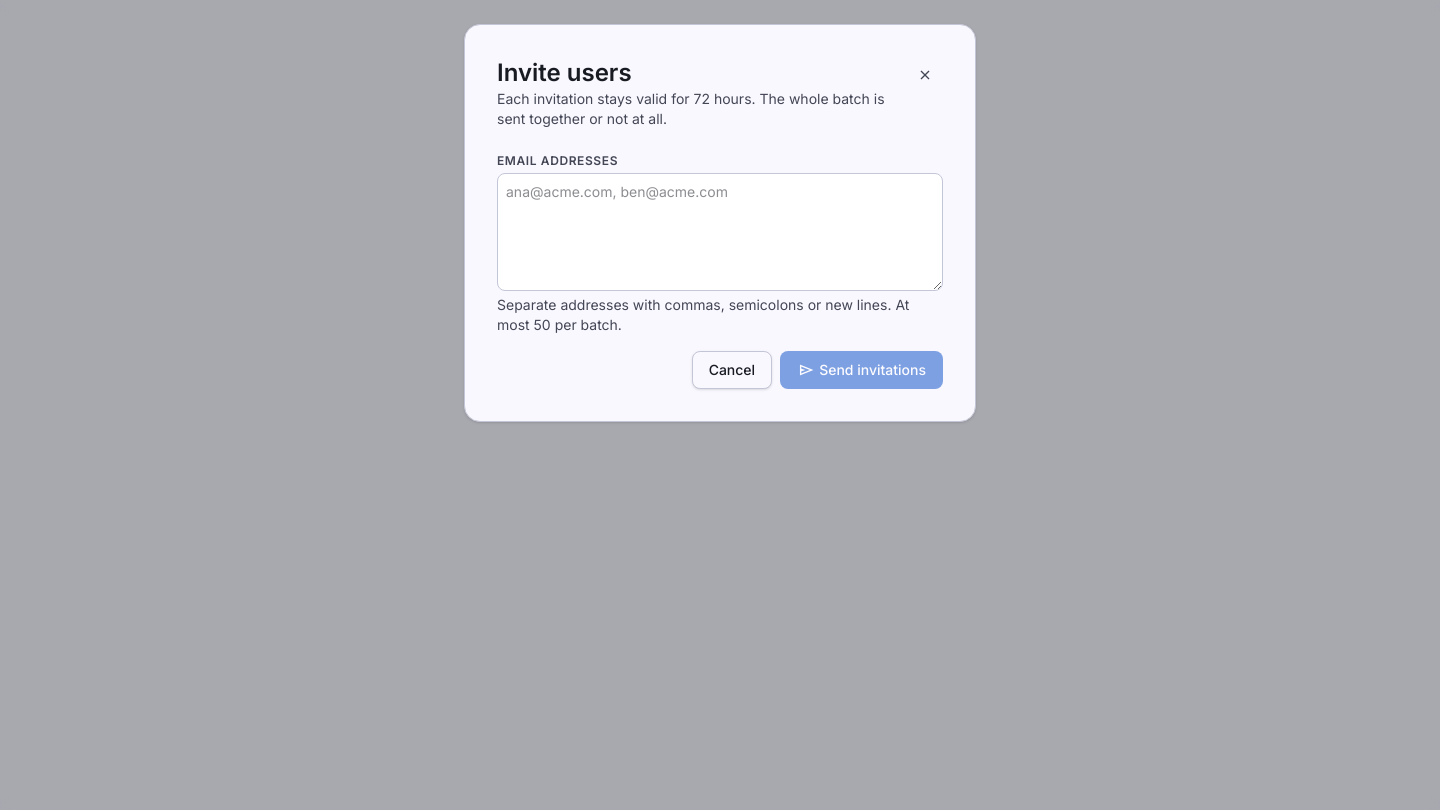
InviteUsersDialog › reports seat usage from the response once the batch is sent
Type "ana@acme.test" into the text box labelled "Email addresses".
click(720, 232); type("ana@acme.test")  # box [497,173,943,291]
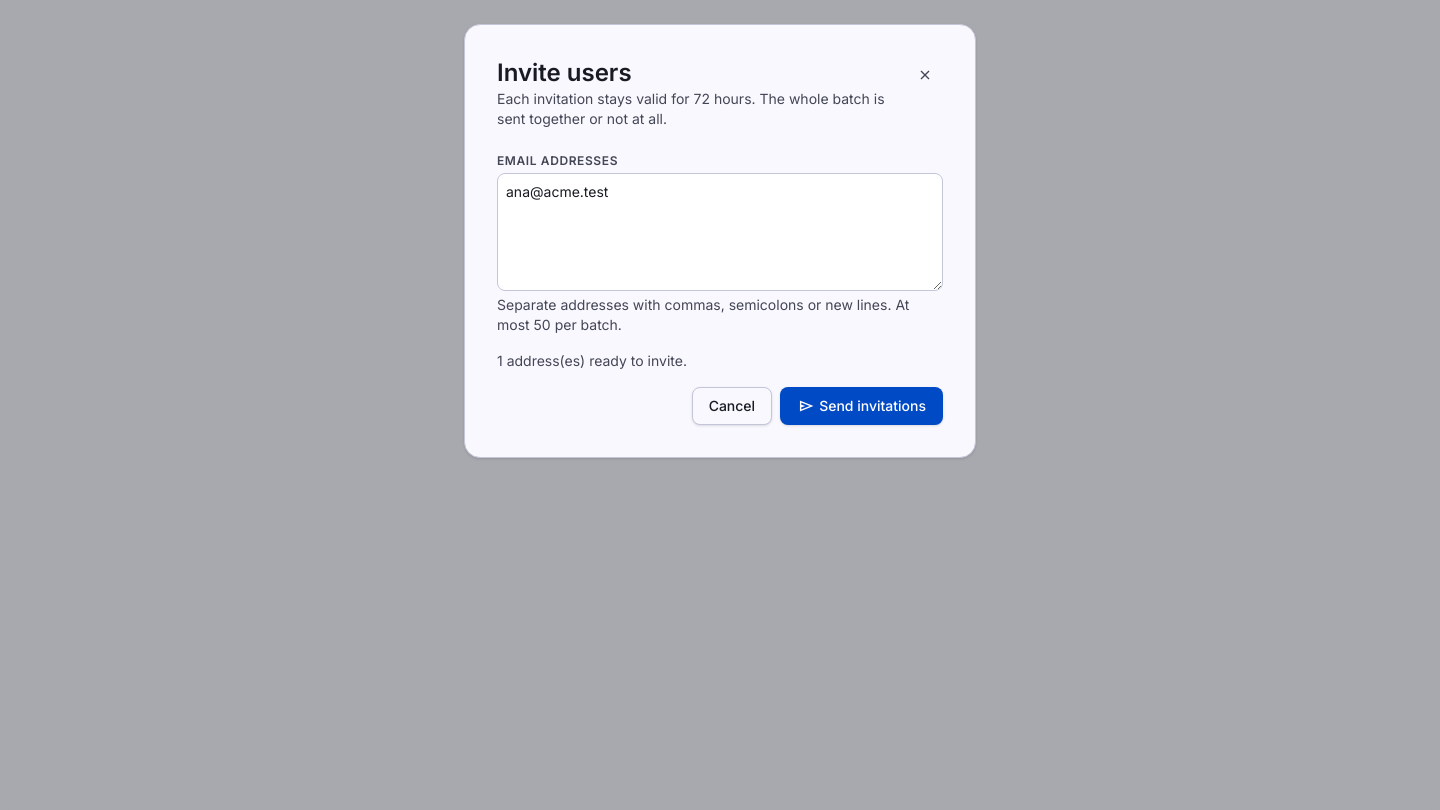
Click the button "Send invitations".
click(862, 406)  # box [780,387,943,425]
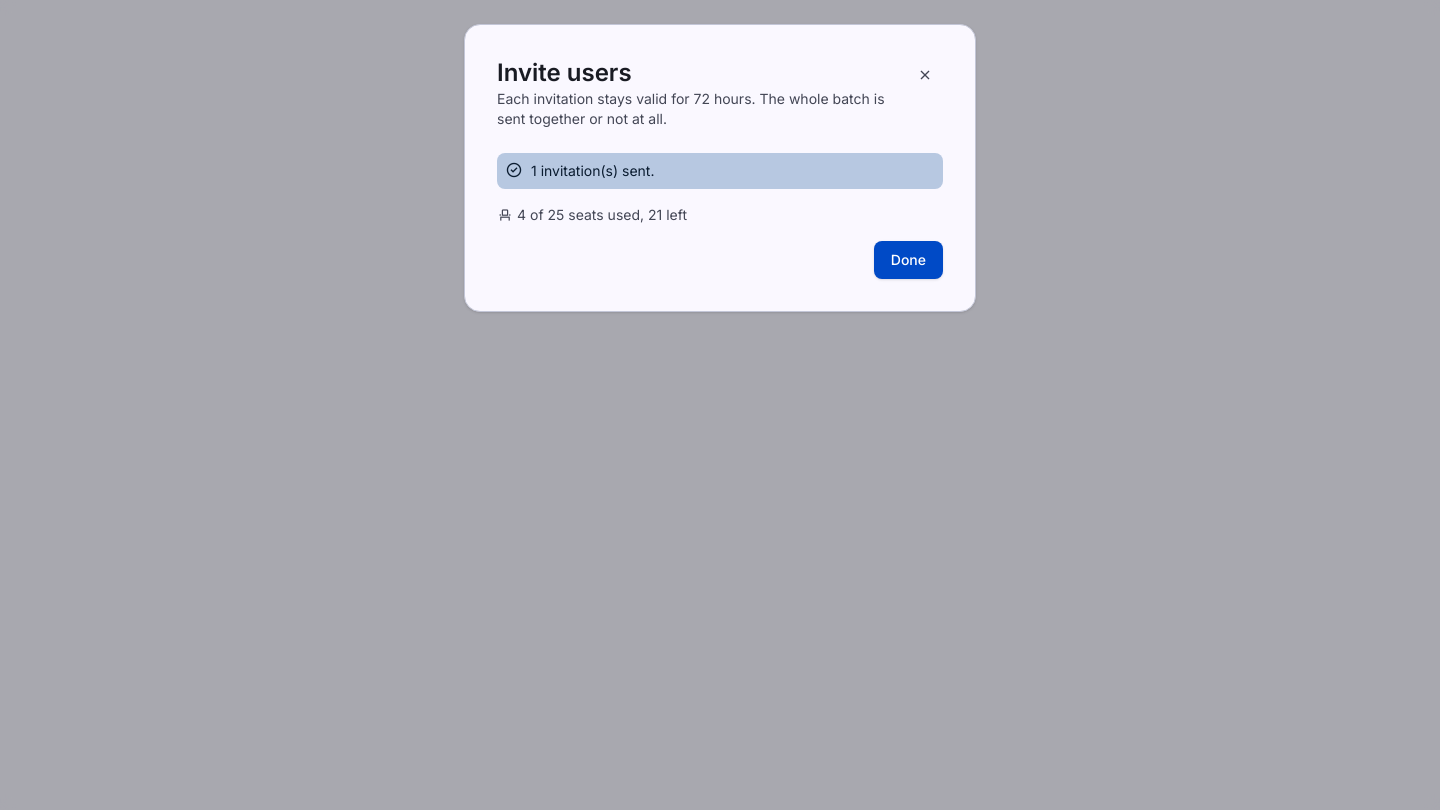
Check: the text "1 invitation(s) sent." is shown, box [531,161,654,181]
Check: the text "4 of 25 seats used, 21 left" is shown, box [517,205,687,225]
